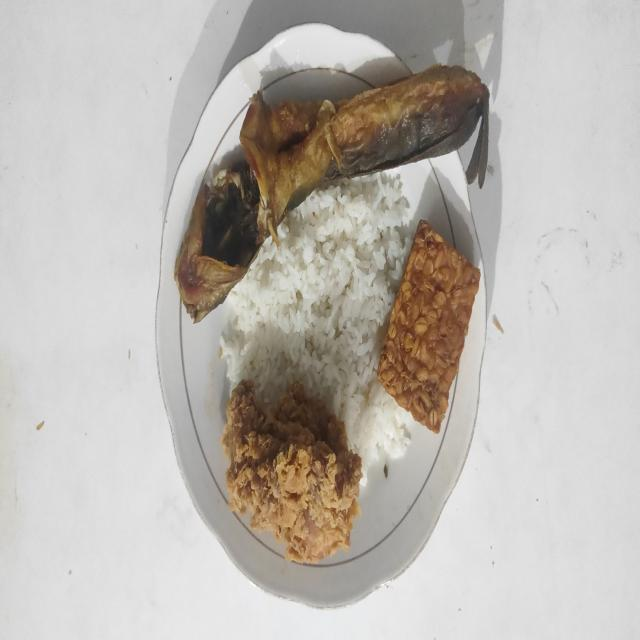nasi_putih: (220, 173, 414, 477)
tempe_goreng: (378, 220, 480, 433)
